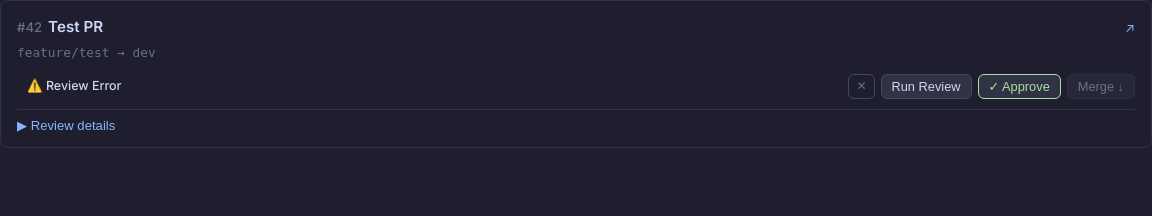
Test: PRCard › shows error verdict summary instead of dimensions list
Click the button "▶ Review details" at (66, 125), box [17, 118, 115, 133]
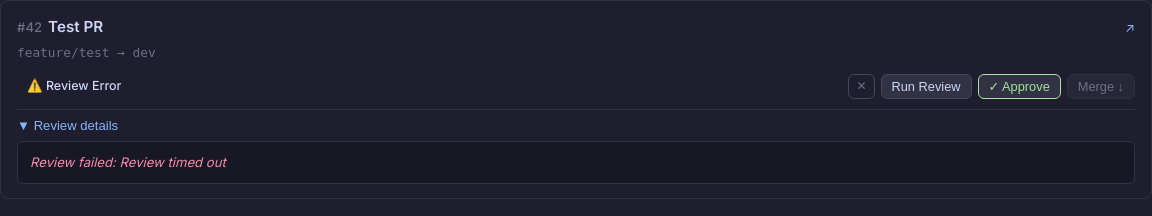
Result: the text "Review failed: Review timed out" is shown at [30, 154, 226, 170]
